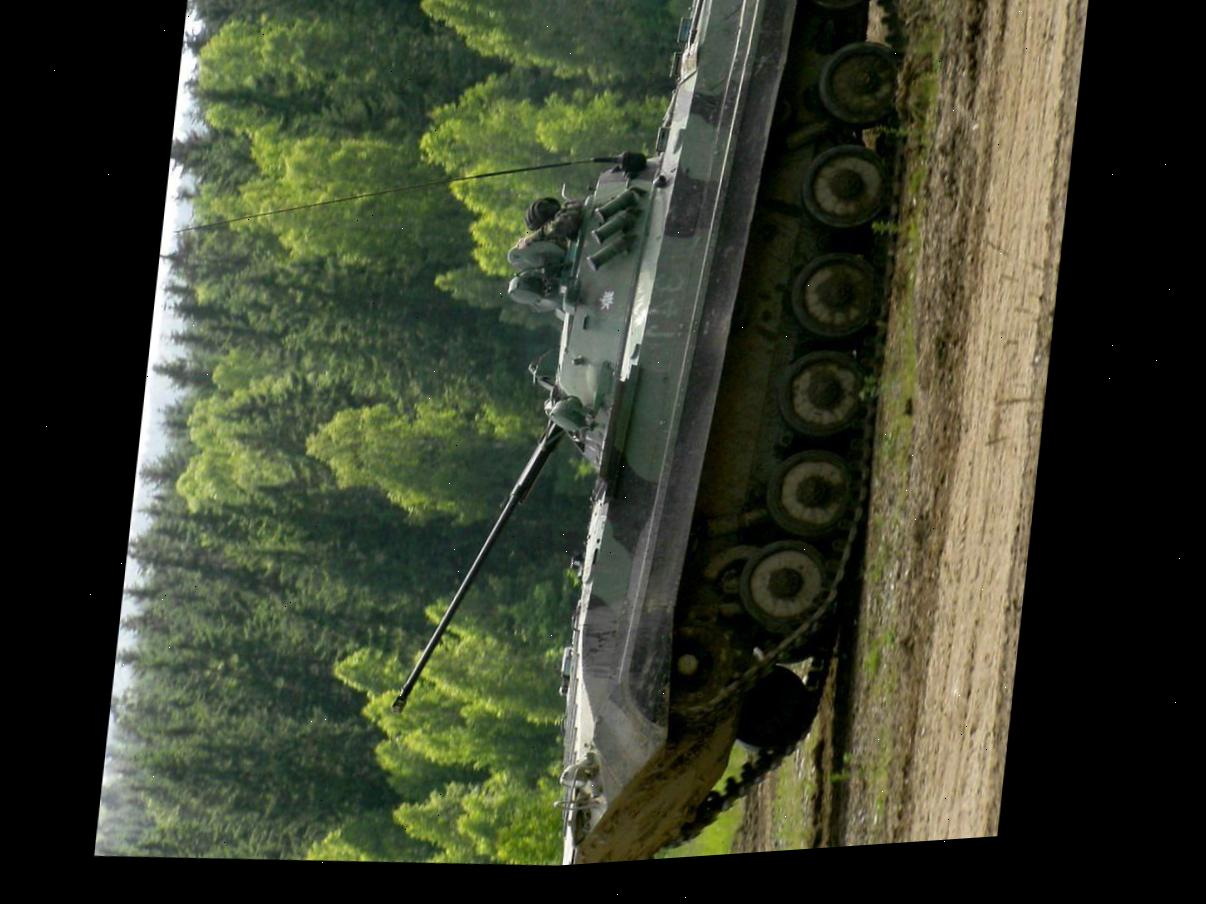tank: (368, 0, 932, 878)
